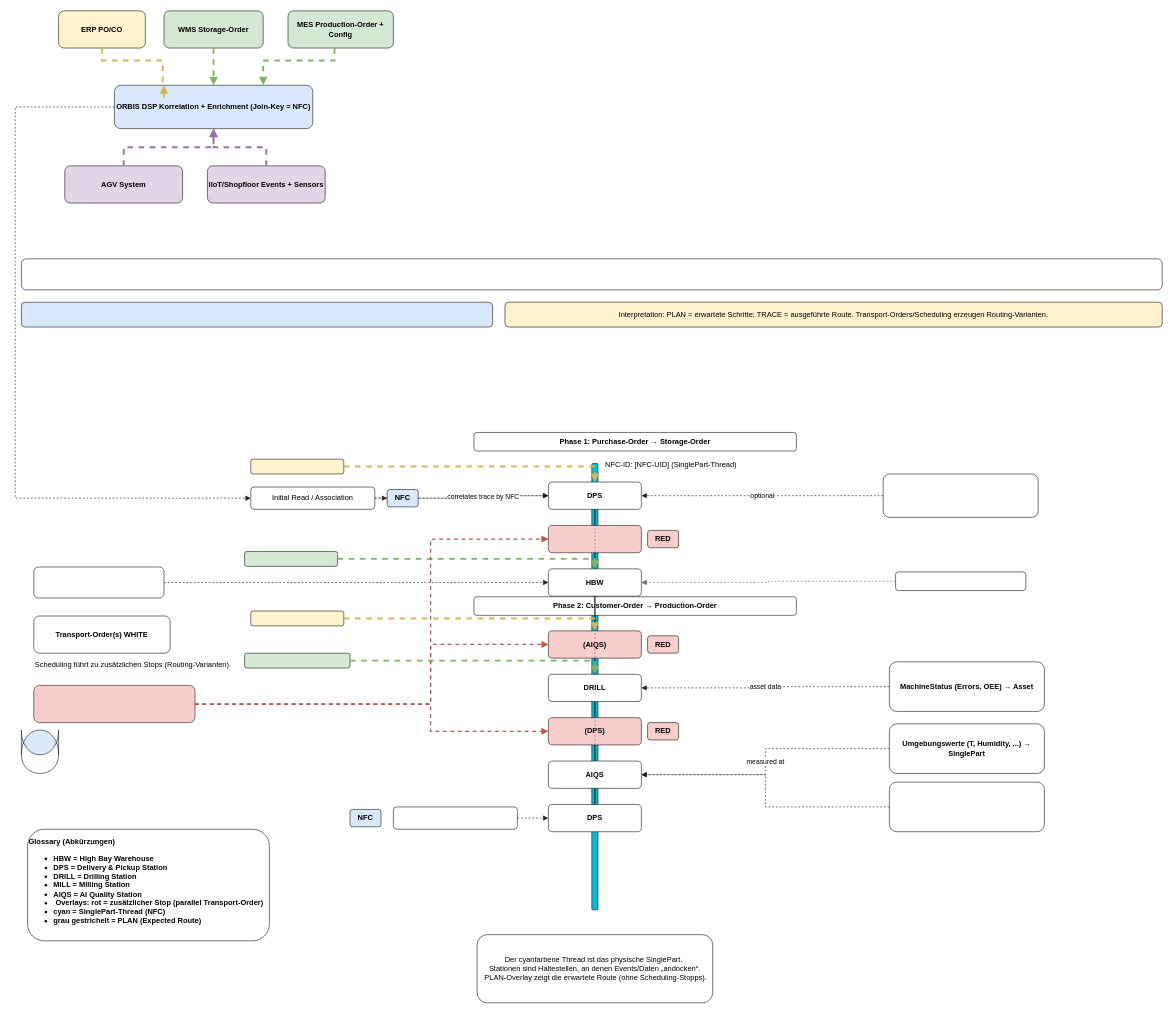
Image size: 1173x1014. Some labels were removed from this diagram. Here are the shapes that lost their labels. From the top down, the centre of each, then its label:
At (591,274): "Track & Trace — Timeline (Vertical) | Produkt WHITE".
At (257,314): "NFC / Workpiece-ID (Join-Key): [NFC-UID] | Zeitraum: [t0..tN]".
At (297,466): "PO-ID: [PO-ID]".
At (960,495): "HU/Container (optional) → HU enthält SingleParts".
At (291,558): "SO-ID: [SO-ID]".
At (594,539): "(MILL)".
At (98,582): "Linked to Bin: [BIN-ID] (z.B. Bin 03)".
At (960,581): "PLAN-Overlay (Expected Route)".
At (297,618): "CO-ID: [CO-ID]".
At (297,660): "PROD-ID: [PROD-ID]".
At (114,704): "Parallel Transport-Order(s) RED".
At (455,817): "Verification Read".
At (966,807): "Quality Result (AIQS Output, Images) → SinglePart".
